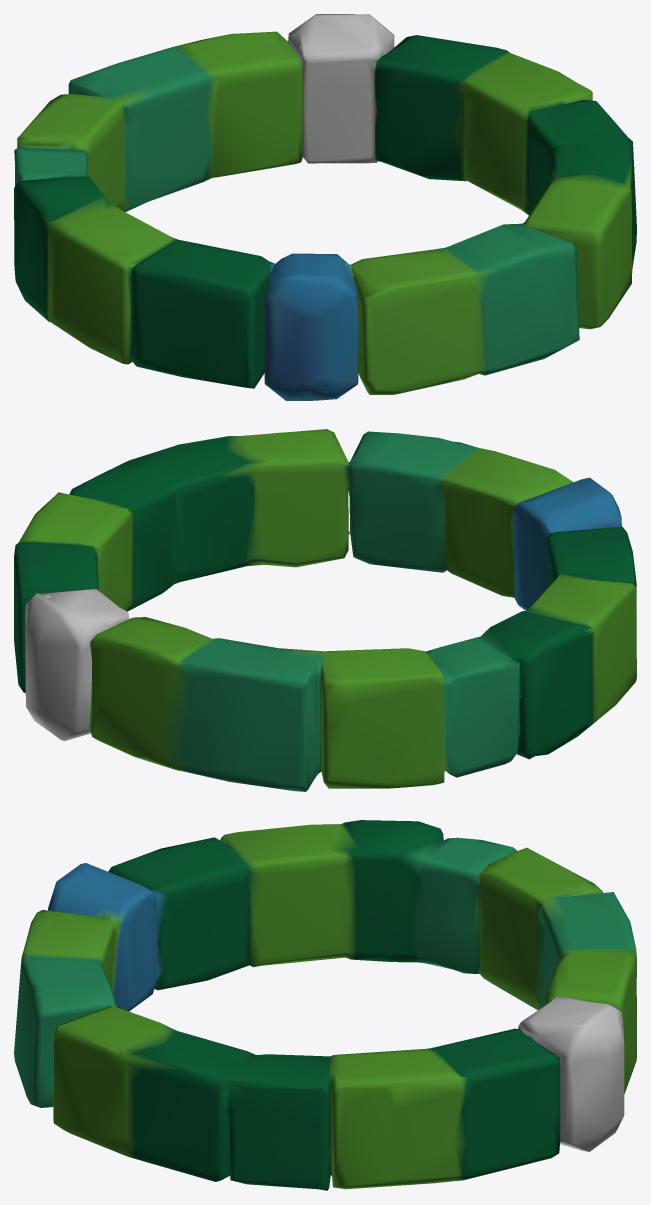
The model's file is gen3d-bracelet-lod0.glb.
3 renders of one model, top to bottom at view 1: azimuth 30°, elevation 25°; view 2: azimuth 150°, elevation 25°; view 3: azimuth 270°, elevation 25°, orthographic.
Parts seen in each view (by area): view 1: part_0; view 2: part_0; view 3: part_0.
Part boxes in pixels (left/top/right/bottom): part_0: left=14, top=14, right=636, bottom=400; part_0: left=14, top=429, right=636, bottom=791; part_0: left=14, top=820, right=636, bottom=1190.
Size of the model in its own units: 4.42 by 0.9968 by 4.35.
